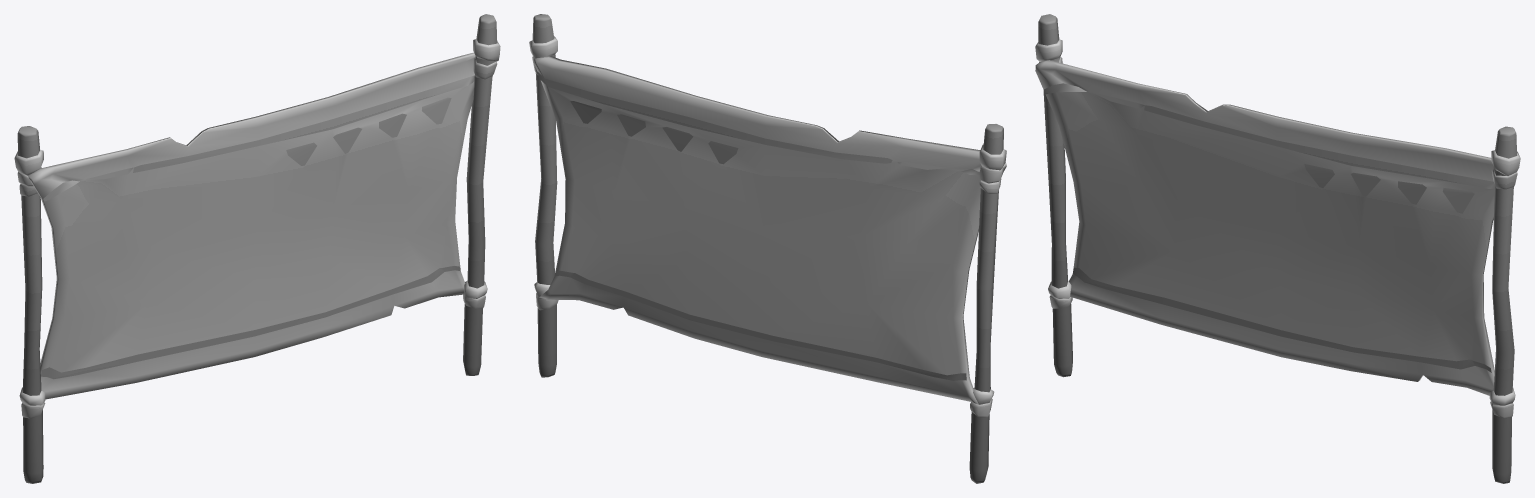
Rendered from PropScreenBlue.glb.
The picture shows the model from 3 angles, left to right: view 1: azimuth 30°, elevation 25°; view 2: azimuth 150°, elevation 25°; view 3: azimuth 330°, elevation 25°; orthographic projection.
Parts seen in each view (by area): view 1: PropScreenBlue; view 2: PropScreenBlue; view 3: PropScreenBlue.
Part boxes in pixels (bbox=[...]): PropScreenBlue: bbox=[14, 14, 500, 483]; PropScreenBlue: bbox=[529, 14, 1006, 483]; PropScreenBlue: bbox=[1035, 14, 1520, 483].
Bounding box in the file's own units: 35.47 × 25.27 × 2.67.
Materials: 1 (1 with a texture image).
